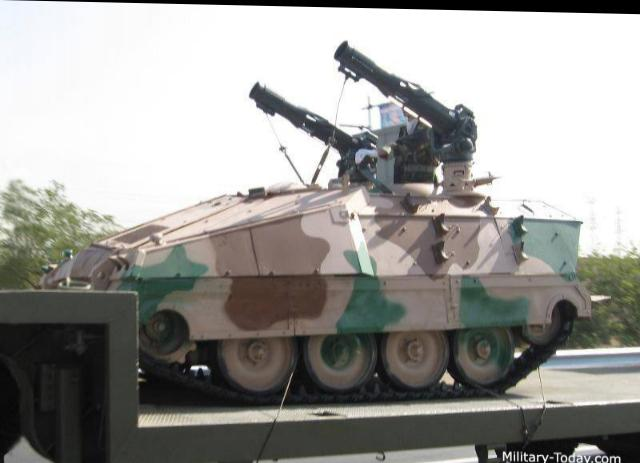tank: (75, 133, 580, 402)
